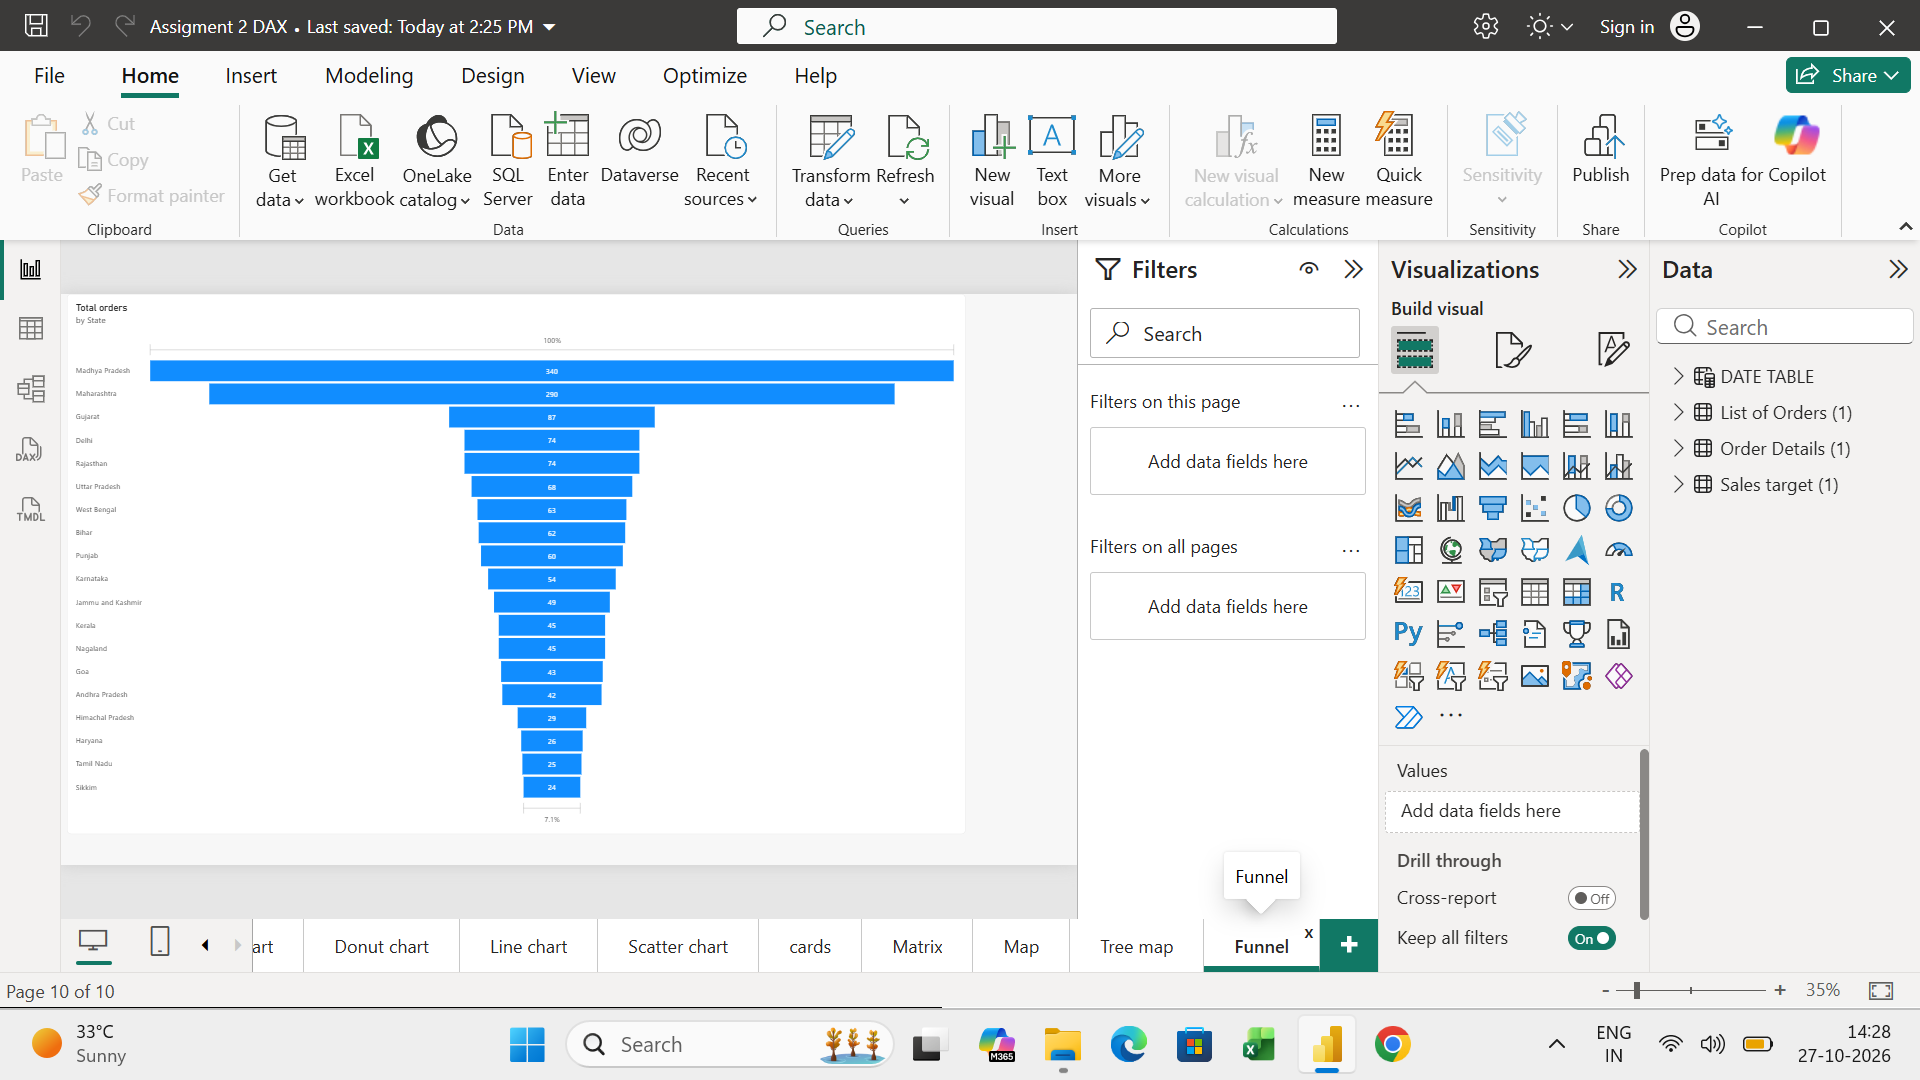

The page's visual inventory and layout, read from the dashboard file:
{"tool":"powerbi","page":{"name":"Funnel ","canvas":[1920,1080],"ordinal":9},"visuals":[{"type":"funnel","fields":{"Category":["List of Orders (1).State"],"Y":["Order Details (1).Total orders"]},"box":[11.3,0,1698,1020.5],"z":0}]}

Visuals, with their boxes on the page's 1920x1080 design canvas (x1, y1, x2, y2). These are canvas units, not pixel positions in the 1920x1080 screenshot, which may show the page scaled, cropped or inside an application window:
funnel - List of Orders (1).State x Order Details (1).Total orders: box=[11, 0, 1709, 1020]
